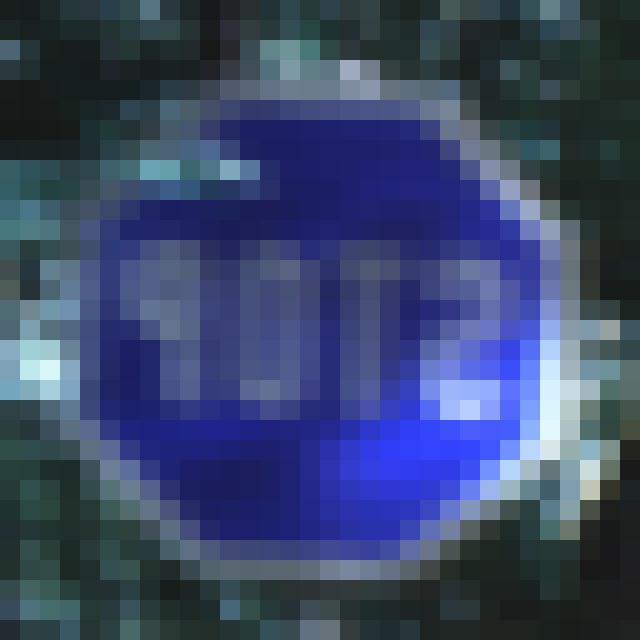STOP: (44, 82, 568, 580)
